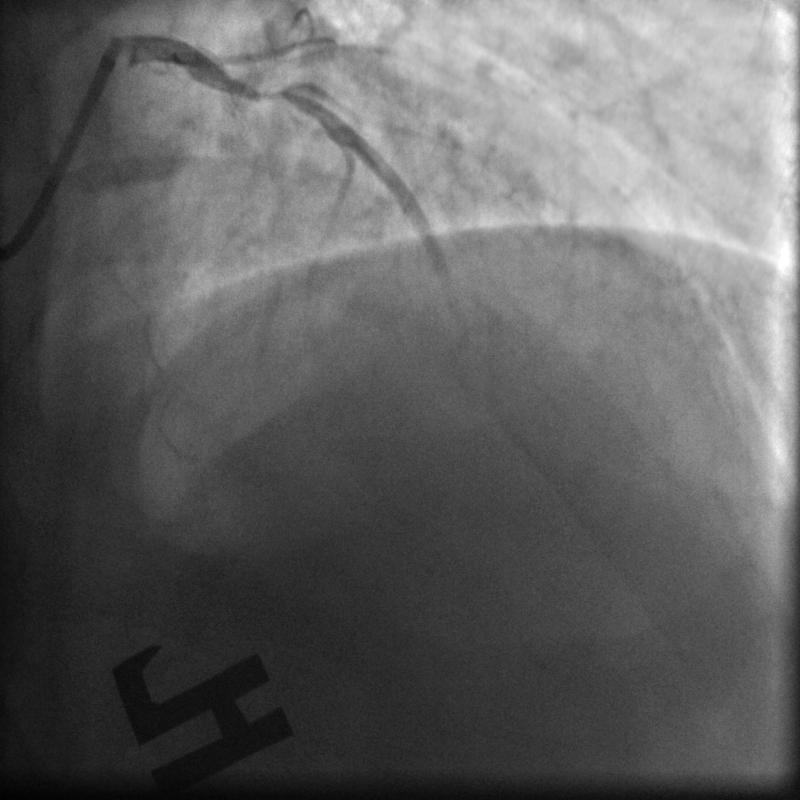Stenosis: (239, 73, 295, 108)
